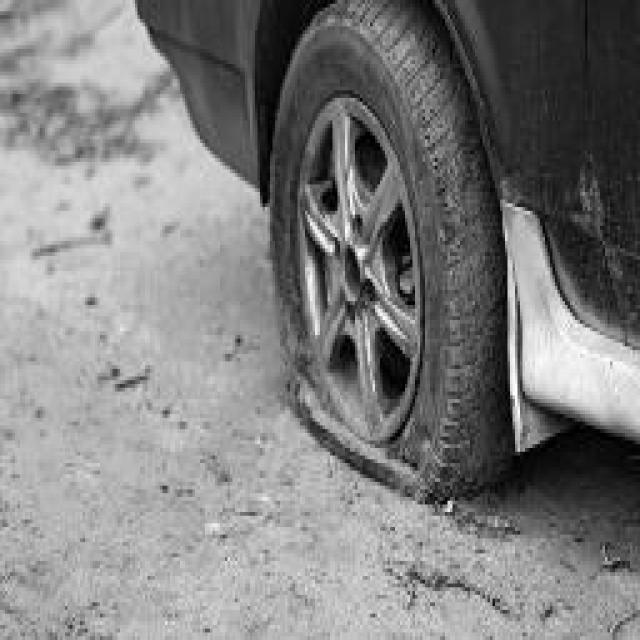Door: (568, 117, 640, 361)
